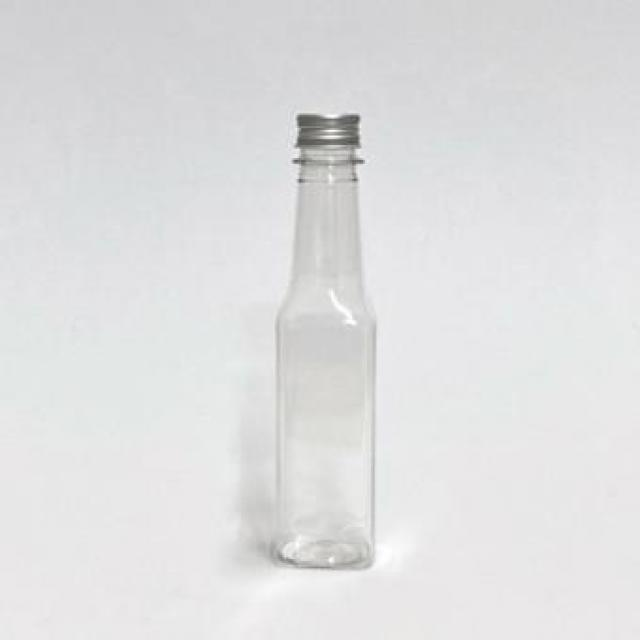bottle: (261, 93, 396, 586)
